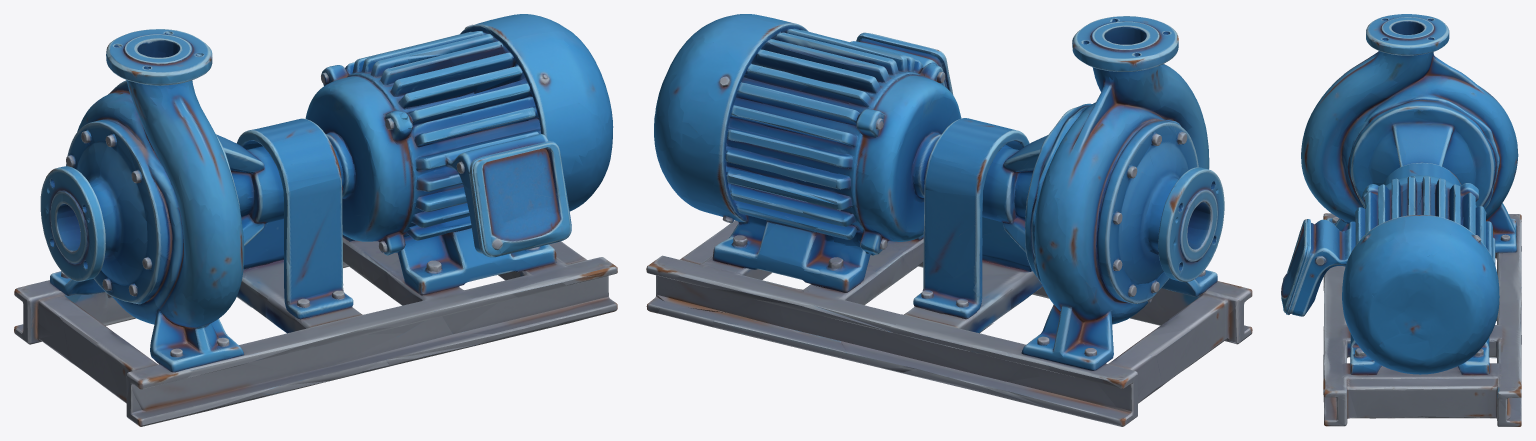
Rendered from pompa_blu.glb.
3 renders of one model, left to right at view 1: azimuth 30°, elevation 25°; view 2: azimuth 150°, elevation 25°; view 3: azimuth 270°, elevation 25°, orthographic. The views are drawn at different scales.
Parts seen in each view (by area): view 1: Mesh_0; view 2: Mesh_0; view 3: Mesh_0.
Part boxes in pixels (bbox=[...]): Mesh_0: bbox=[14, 14, 617, 426]; Mesh_0: bbox=[646, 14, 1252, 426]; Mesh_0: bbox=[1281, 14, 1521, 426].
Size of the model in its own units: 1.9 by 1.14 by 1.01.
Materials: 1 (1 with a texture image).
